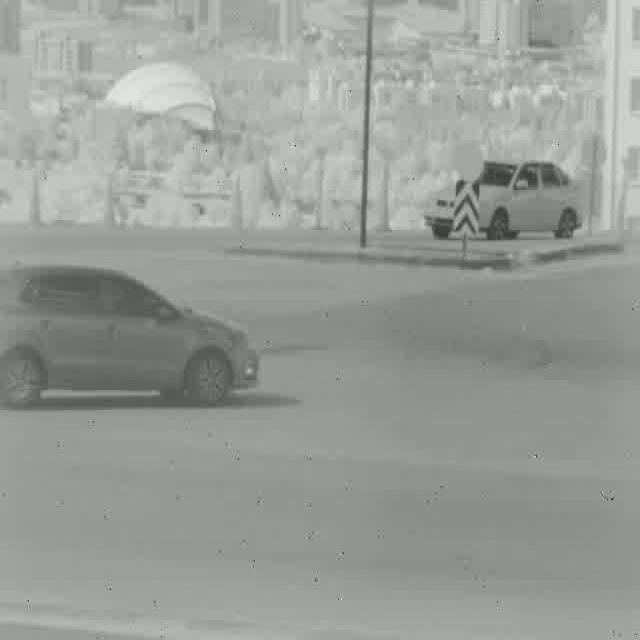Car: (0, 264, 259, 410), (424, 158, 582, 241)
